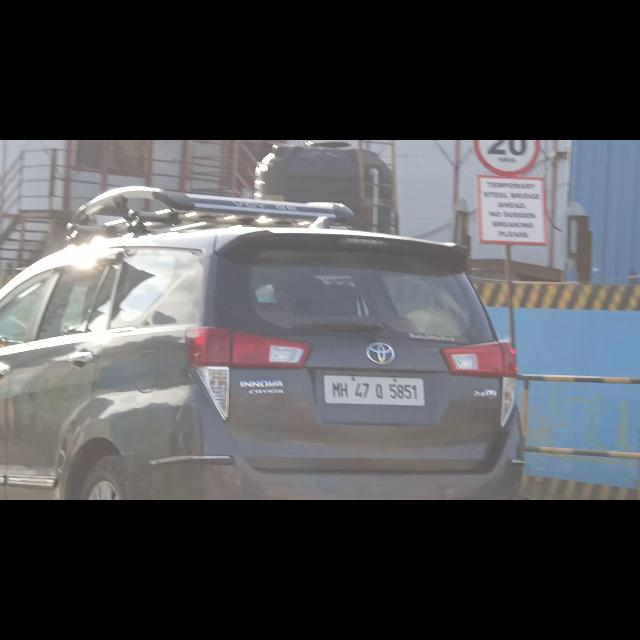vehicles: (0, 230, 524, 500)
